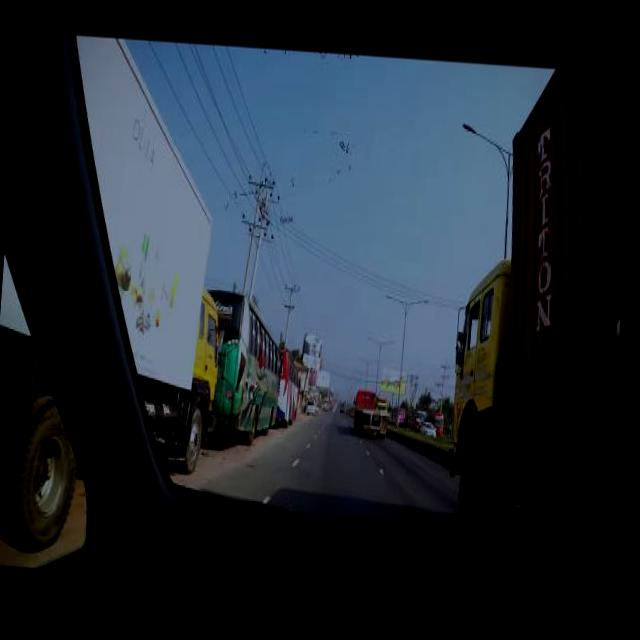bus: (195, 286, 286, 442), (274, 344, 302, 425), (424, 408, 444, 432), (406, 406, 425, 429)
car: (418, 420, 434, 434)
truck: (0, 25, 241, 563), (442, 54, 640, 523), (350, 386, 390, 436)
